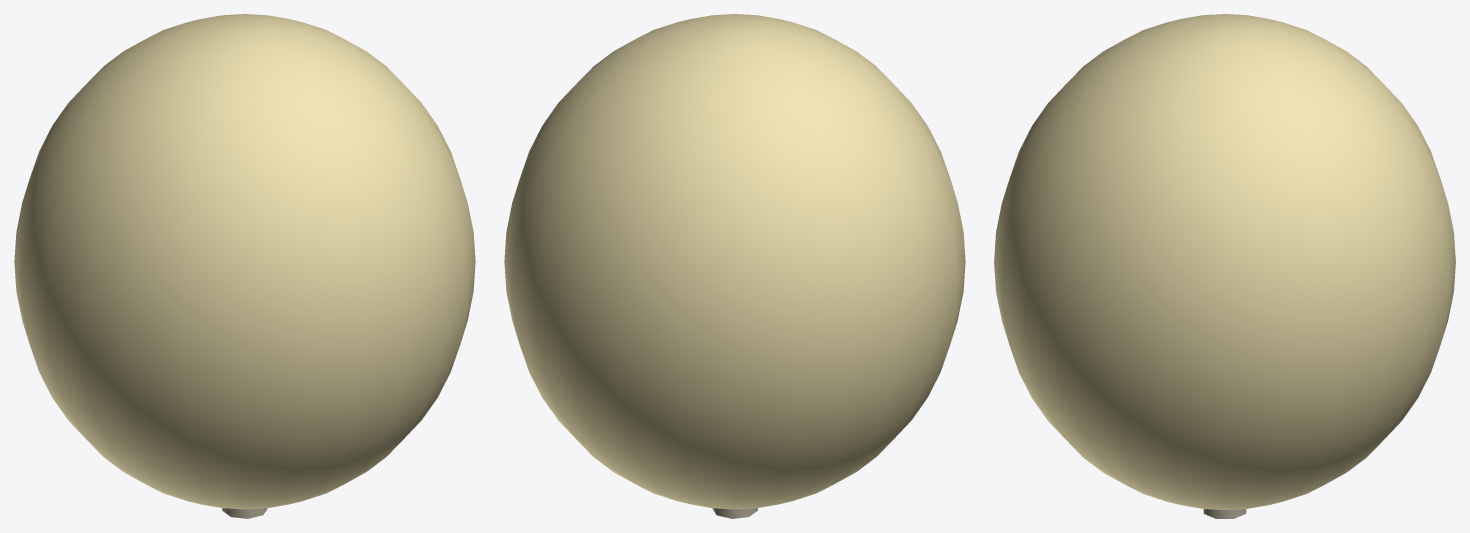
File: HamamelisVirginiana.glb
The picture shows the model from 3 angles, left to right: view 1: azimuth 30°, elevation 25°; view 2: azimuth 150°, elevation 25°; view 3: azimuth 270°, elevation 25°; orthographic projection.
Visible parts, largest first — view 1: Witch_Hazel__Schematic_LOD3; view 2: Witch_Hazel__Schematic_LOD3; view 3: Witch_Hazel__Schematic_LOD3.
Boxes of the visible parts, box(x1,y1,x2,y2) form: Witch_Hazel__Schematic_LOD3: box(14, 14, 475, 518); Witch_Hazel__Schematic_LOD3: box(504, 14, 965, 518); Witch_Hazel__Schematic_LOD3: box(994, 14, 1455, 518).
Bounding box in the file's own units: 3.58 × 4.07 × 3.58.
